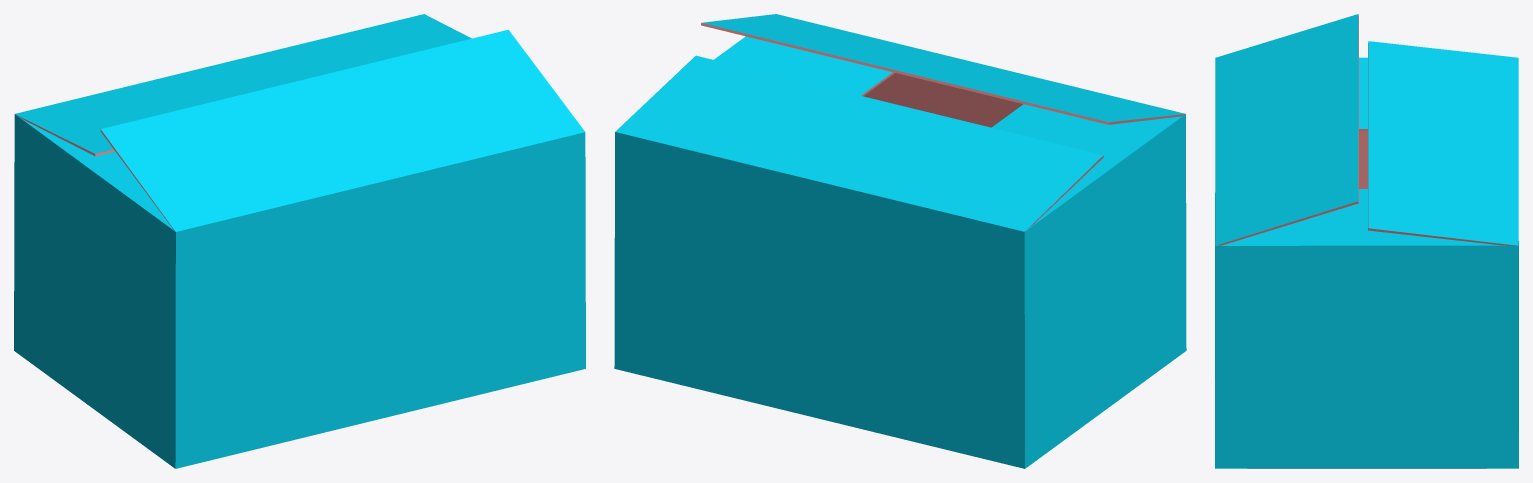
The picture shows the model from 3 angles, left to right: view 1: azimuth 30°, elevation 25°; view 2: azimuth 150°, elevation 25°; view 3: azimuth 270°, elevation 25°; orthographic projection. The views are drawn at different scales.
Visible parts, largest first — view 1: Object001; view 2: Object001, map01; view 3: Object001, map01.
Boxes of the visible parts, left/top/right/bottom form: Object001: left=14, top=14, right=585, bottom=468; Object001: left=614, top=14, right=1186, bottom=468; map01: left=701, top=23, right=1185, bottom=231; Object001: left=1215, top=14, right=1518, bottom=468; map01: left=1216, top=15, right=1515, bottom=468.
Size of the model in its own units: 267 by 177 by 182.
